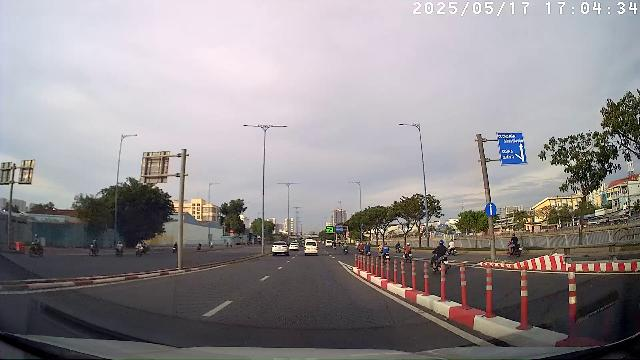301a-cac-xe-chi-duoc-di-thang: (485, 203, 497, 217)
